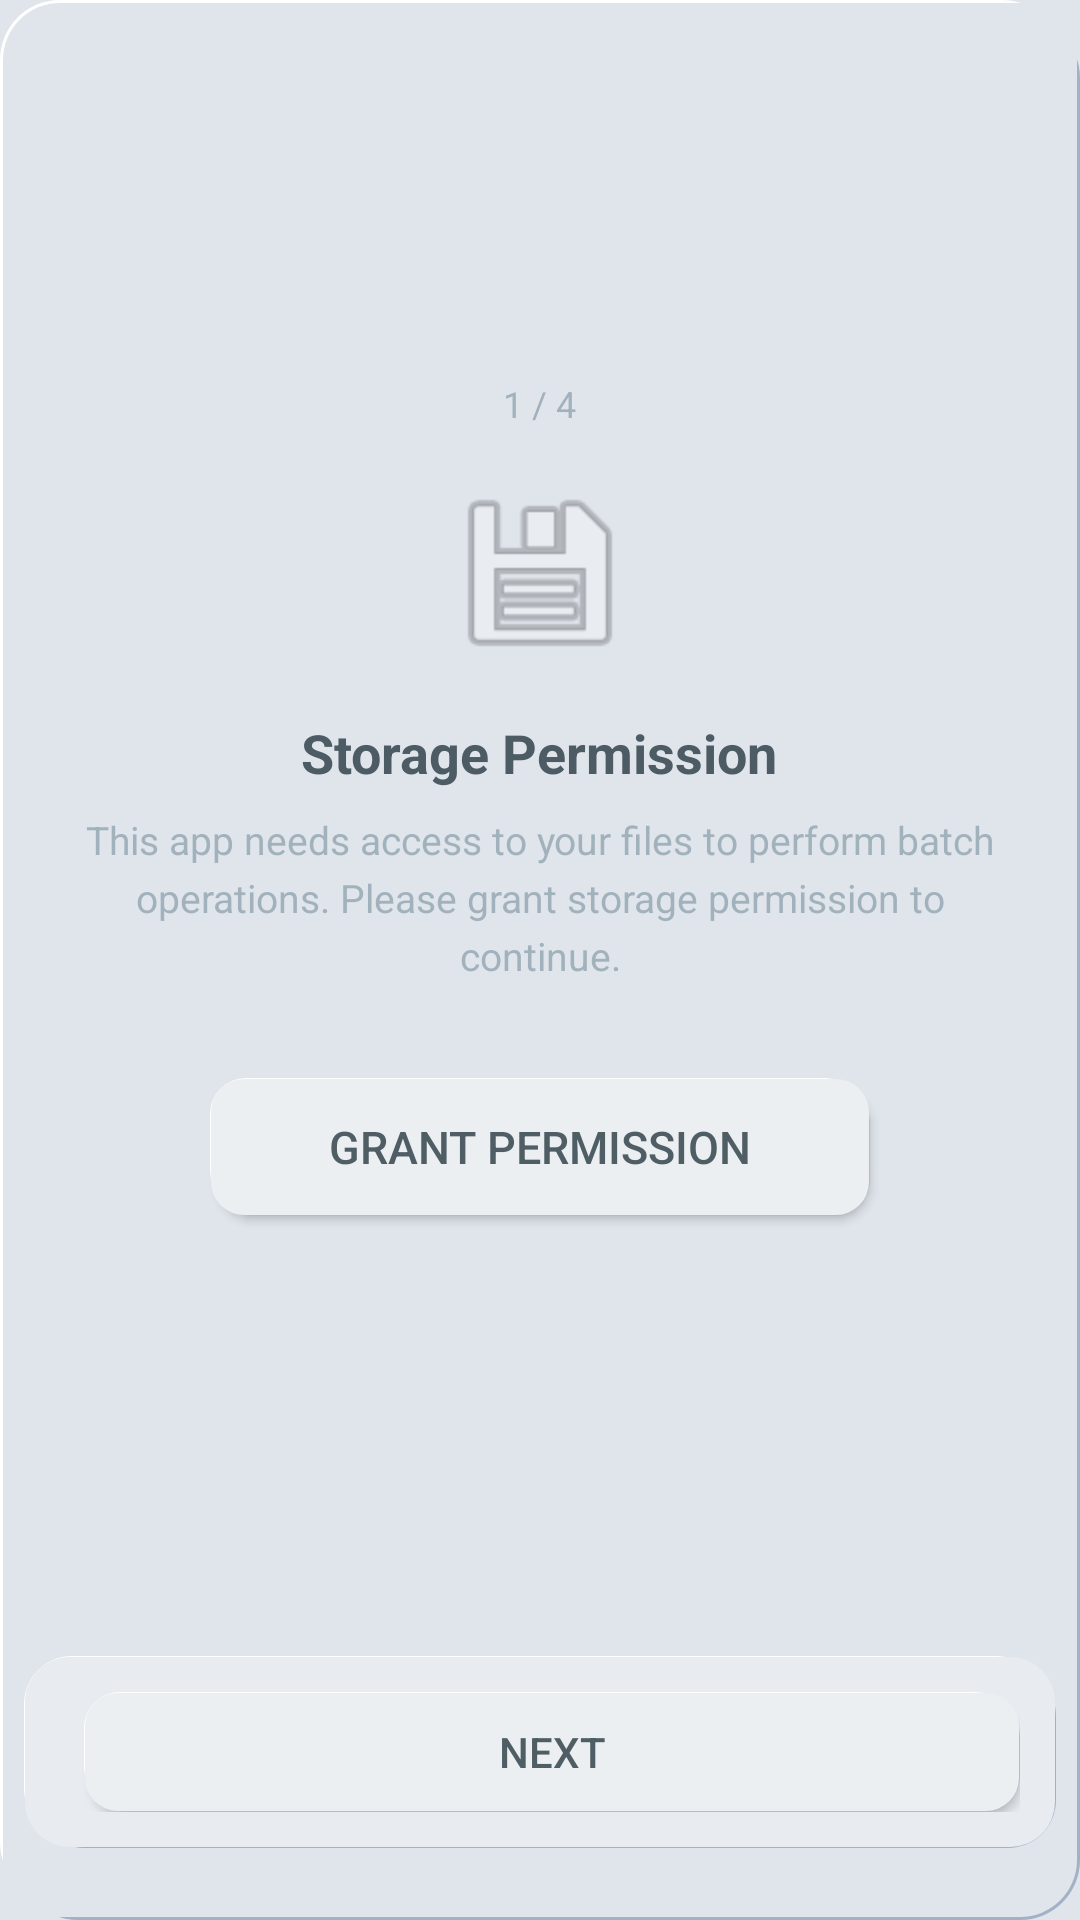

Icons on this 1080px×1920px Android screen, each with the point to tap as (x=x, y=y):
save: (x=540, y=573)
